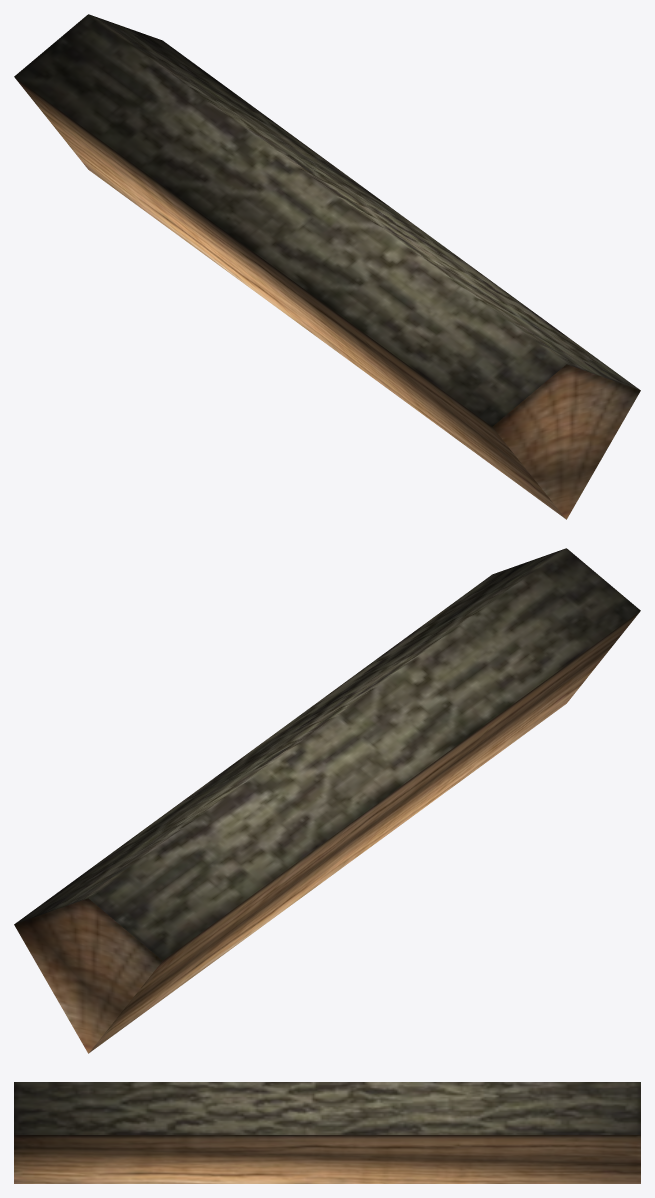
The model's file is Tv_Firewood.glb.
The picture shows the model from 3 angles, top to bottom: view 1: azimuth 30°, elevation 25°; view 2: azimuth 150°, elevation 25°; view 3: azimuth 270°, elevation 25°; orthographic projection. The views are drawn at different scales.
Visible parts, largest first — view 1: firewood; view 2: firewood; view 3: firewood.
Boxes of the visible parts, <box> form: firewood: <box>14,14,640,519</box>; firewood: <box>14,548,640,1053</box>; firewood: <box>14,1082,640,1183</box>.
Bounding box in the file's own units: 0.0987 × 0.0987 × 0.55.
Materials: 1 (1 with a texture image).
